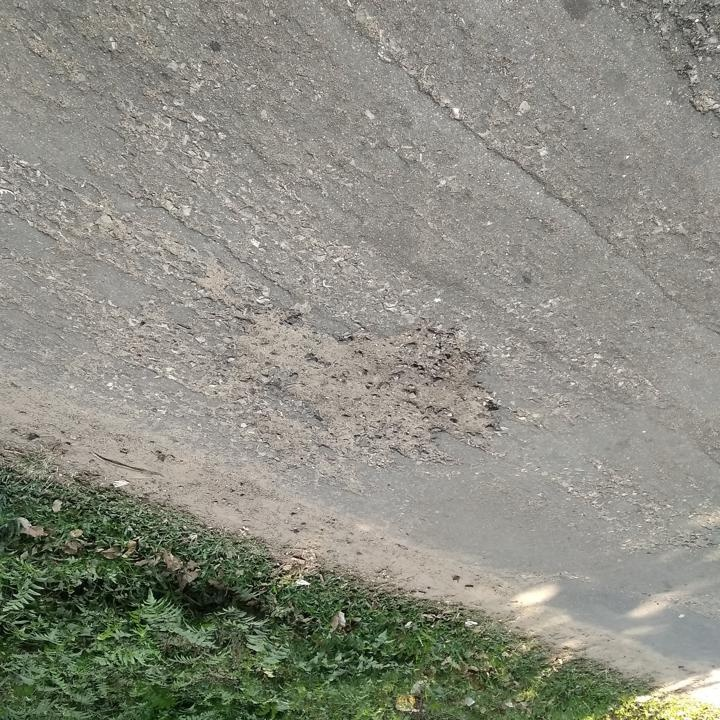pothole: (236, 310, 507, 469)
